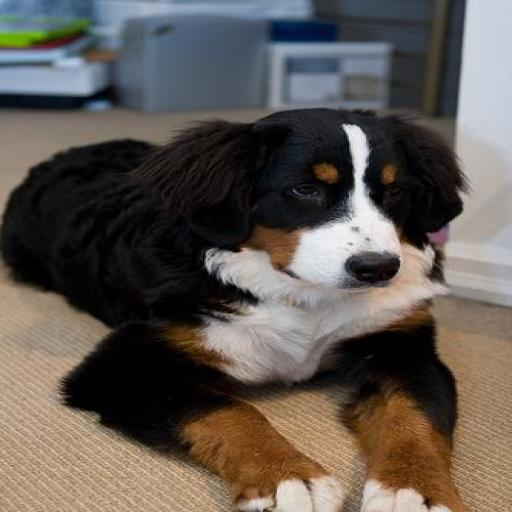dog_face: (180, 104, 457, 288)
